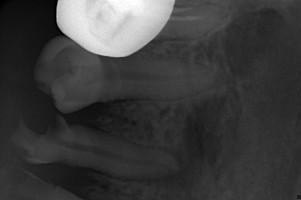Furcation Involvement: (145, 97, 227, 190), (223, 8, 287, 77)
